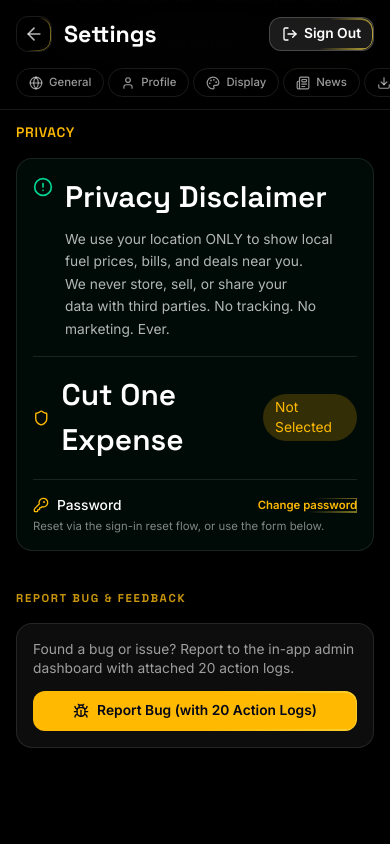
it: SettingsPage › exposes a password management entry point in the privacy section
(page scrolled)
Click the button "Change password".
click(307, 505)  # box [258, 498, 357, 513]
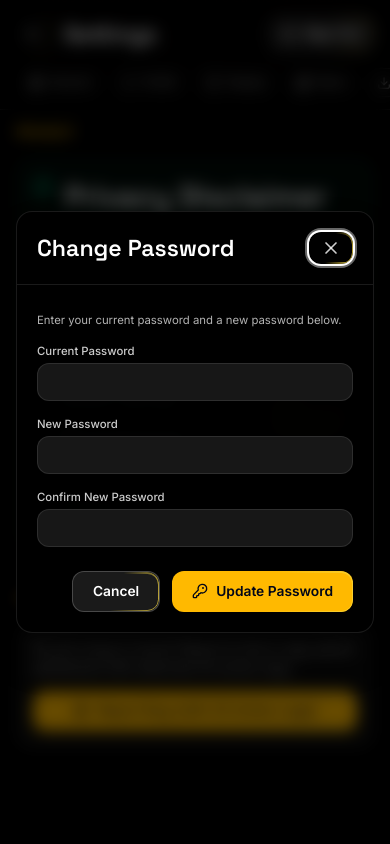
Expected: the text "Current Password" is shown, [37, 344, 134, 358]
